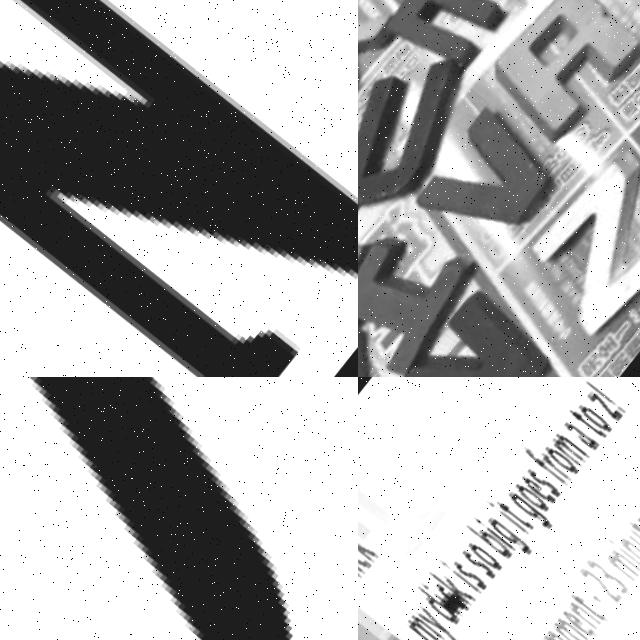I: (358, 214, 478, 377)
J: (0, 377, 358, 640)
M: (369, 0, 538, 94)
N: (0, 0, 358, 377), (366, 275, 563, 377)
R: (477, 0, 640, 151)
U: (358, 33, 492, 229)
V: (398, 107, 569, 283)
X: (358, 0, 415, 124)
Y: (358, 330, 418, 377)
Z: (505, 147, 640, 348)
